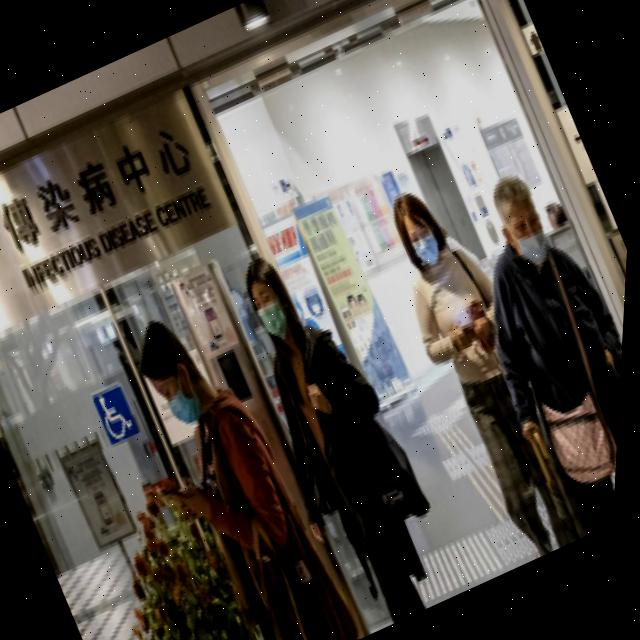Mask: (504, 213, 563, 276), (249, 292, 306, 350), (162, 382, 212, 437), (404, 230, 453, 276)
